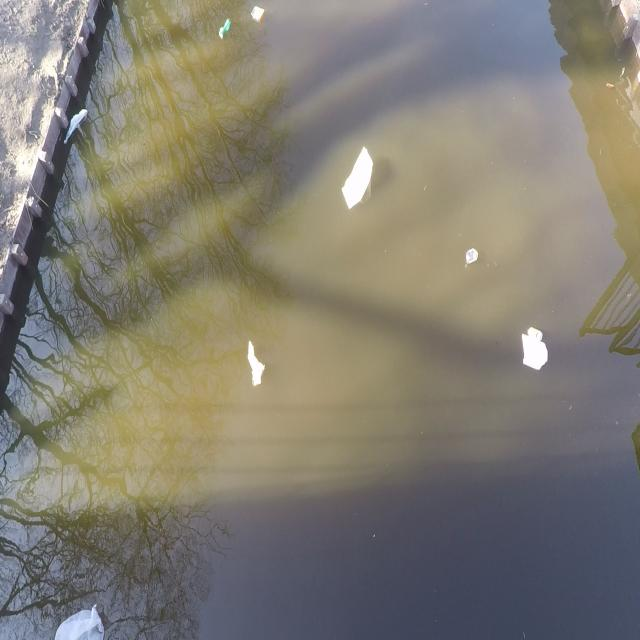Autre plastique: (512, 334, 559, 377)
Non plastique: (523, 318, 552, 344)
Sac plastique: (46, 594, 107, 640), (61, 104, 93, 151), (244, 337, 270, 392)
